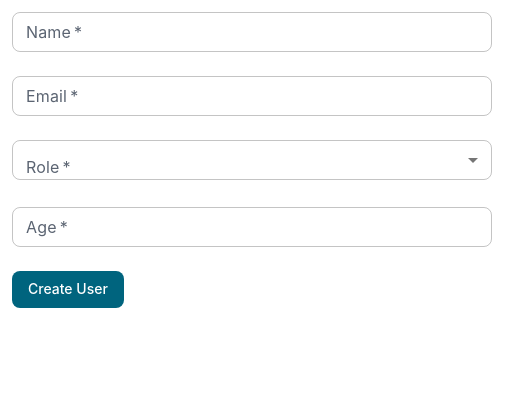
Scenario: UserForm validation › shows an error when age is below 18
Type "17" into the number field labelled "Age *". click: (252, 227)
box: [12,207,492,247]
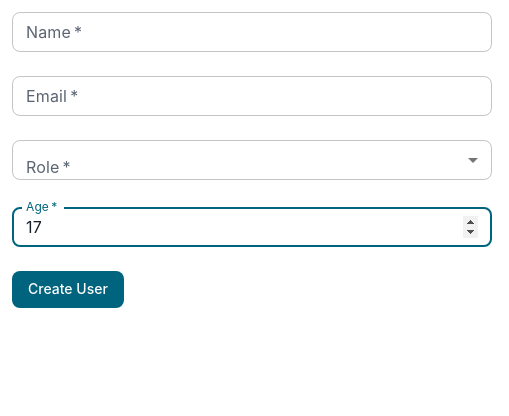
Click the button "Create User". click: (68, 289)
box: [12,271,124,308]
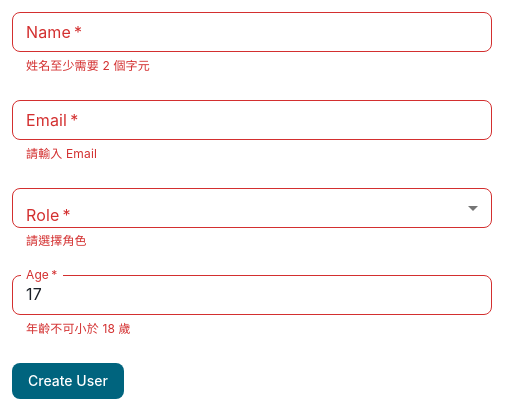
Expected: the text "年齡不可小於 18 歲" is shown, [26,321,131,336]
